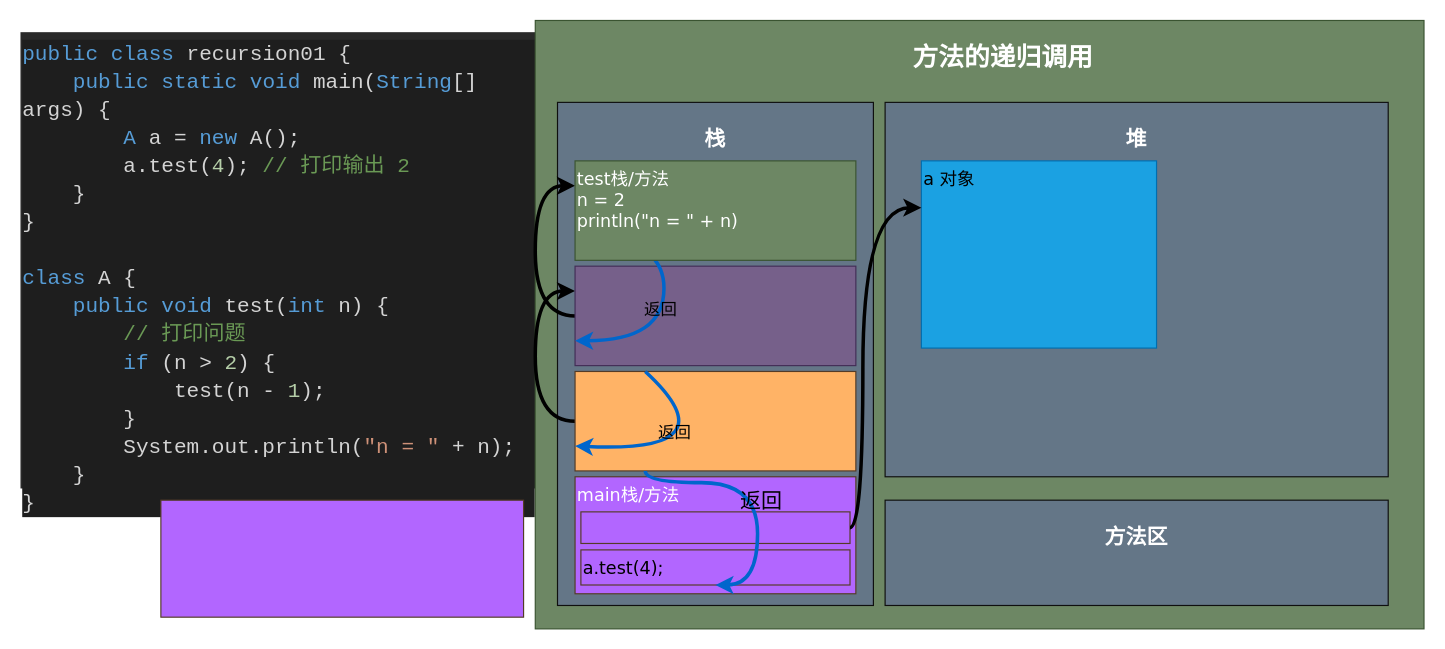
Image size: 1445x649. Some labels were removed from this diagram. The shapes that lost their labels are listed below. From the top down, each one's centre as x and y in pixels, then its label:
[715,315]: test栈/方法 n = 3 test(3-1) println("n = " + n)
[715,420]: test栈/方法 n = 4 test(4-1) println("n = " + n)
[715,527]: A a = new A();
[342,558]: 控制台输出 n = 2 n = 3 n = 4
